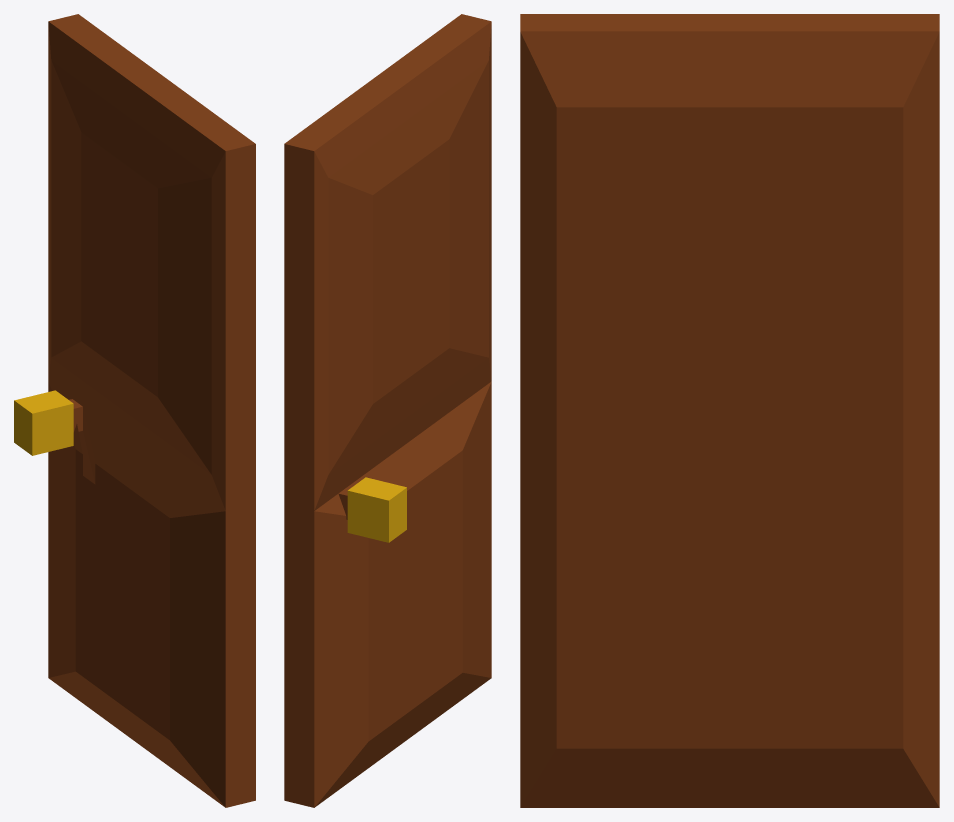
The model's file is Door.fbx.
3 views of the same model, side by side, from view 1: azimuth 30°, elevation 25°; view 2: azimuth 150°, elevation 25°; view 3: azimuth 270°, elevation 25° (orthographic). The views are drawn at different scales.
Visible parts, largest first — view 1: Door; view 2: Door; view 3: Door.
Part boxes in pixels (box(x1,y1,x2,y2)): Door: box(14, 14, 255, 807); Door: box(284, 14, 491, 807); Door: box(520, 14, 939, 807).
Bounding box in the file's own units: 86.13 × 546 × 267.
